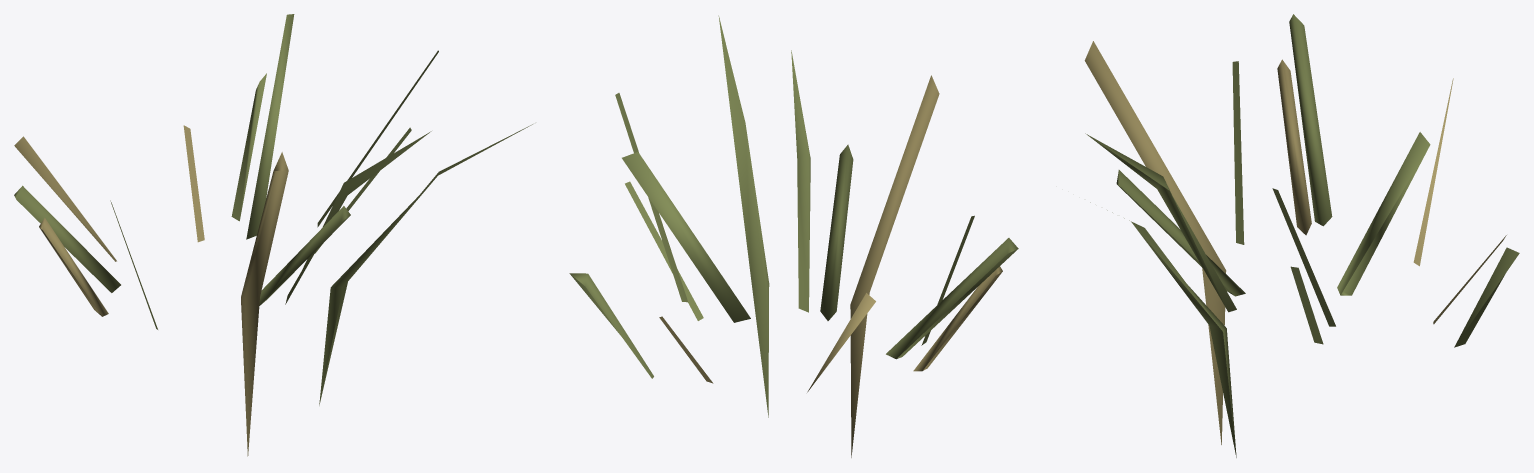
Rendered from Herbes_Dense_LOD2.fbx.
3 views of the same model, side by side, from view 1: azimuth 30°, elevation 25°; view 2: azimuth 150°, elevation 25°; view 3: azimuth 270°, elevation 25° (orthographic). The views are drawn at different scales.
Visible parts, largest first — view 1: Herbes_Dense_LOD2; view 2: Herbes_Dense_LOD2; view 3: Herbes_Dense_LOD2.
Part boxes in pixels (x1,y1,x2,y2): Herbes_Dense_LOD2: [14, 14, 532, 456]; Herbes_Dense_LOD2: [569, 15, 1018, 457]; Herbes_Dense_LOD2: [1084, 14, 1519, 457].
Bounding box in the file's own units: 67.44 × 54.96 × 59.71.
